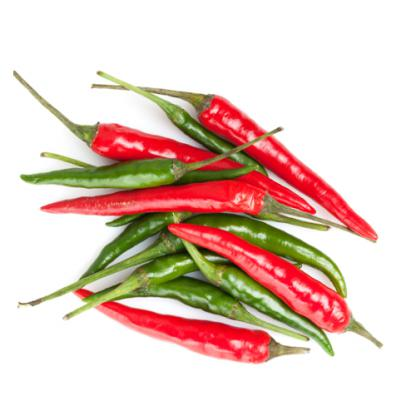chilli: (90, 81, 378, 242), (11, 71, 318, 218), (166, 223, 383, 351), (176, 226, 337, 358), (73, 286, 309, 364), (17, 127, 281, 187), (100, 274, 308, 343)
